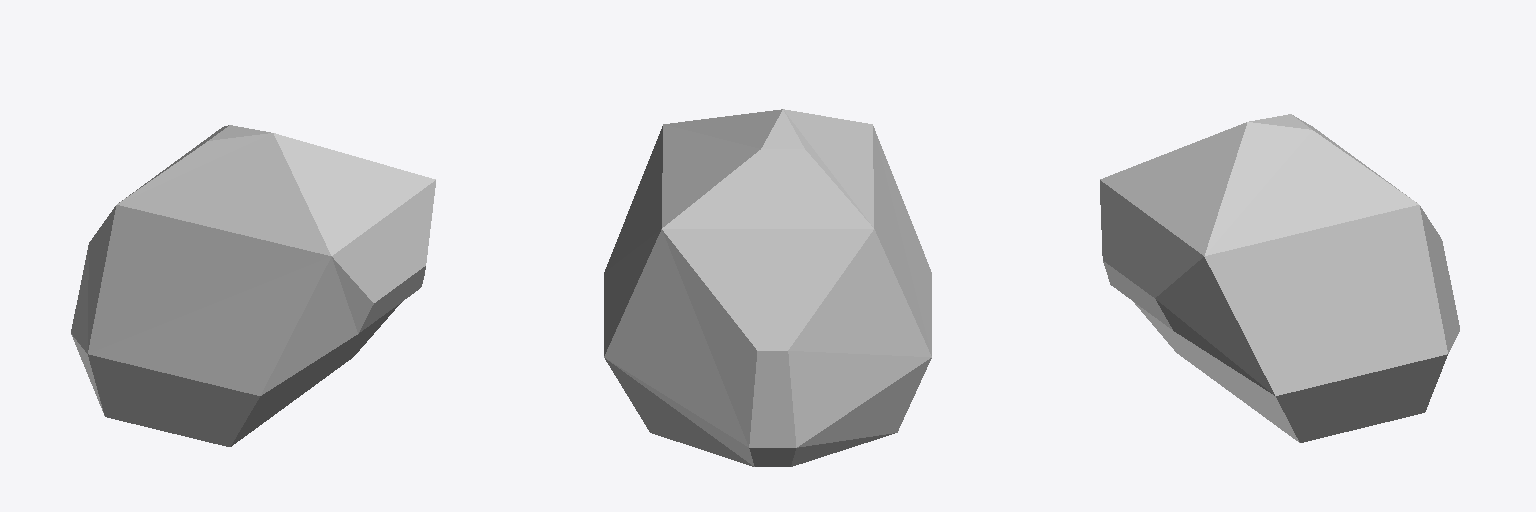
File: mLv1Rock10.obj
The picture shows the model from 3 angles: view 1: azimuth 30°, elevation 25°; view 2: azimuth 150°, elevation 25°; view 3: azimuth 270°, elevation 25°; orthographic projection.
Visible parts, largest first — view 1: mStoneBolder13; view 2: mStoneBolder13; view 3: mStoneBolder13.
Boxes of the visible parts, box(x1,y1,x2,y2) form: mStoneBolder13: box(71, 125, 435, 446); mStoneBolder13: box(604, 109, 931, 466); mStoneBolder13: box(1100, 114, 1459, 442).
Size of the model in its own units: 1.04 by 0.8037 by 0.9758.